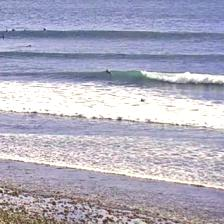surfer: (105, 69, 111, 74), (25, 44, 32, 48), (140, 98, 144, 101), (2, 35, 4, 40), (5, 29, 8, 32), (44, 28, 46, 31), (12, 29, 15, 31)
